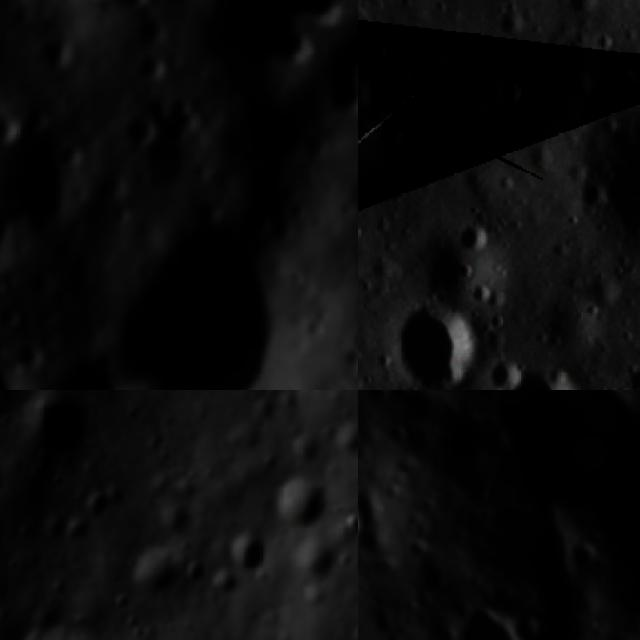crater: (90, 216, 319, 390), (377, 292, 490, 390), (19, 390, 98, 465), (266, 472, 335, 534), (122, 540, 187, 600), (0, 190, 37, 293), (112, 104, 172, 165), (501, 356, 595, 390), (316, 65, 358, 137), (220, 525, 267, 576), (459, 605, 525, 640), (54, 508, 96, 554), (53, 0, 142, 20), (0, 102, 29, 161), (490, 6, 532, 44), (80, 477, 116, 519), (0, 297, 33, 342), (494, 74, 528, 111), (608, 60, 640, 98), (179, 554, 211, 592), (458, 223, 494, 256), (567, 62, 599, 97), (358, 390, 395, 413), (358, 71, 377, 114), (560, 0, 602, 17), (592, 26, 613, 51), (602, 380, 640, 390)
